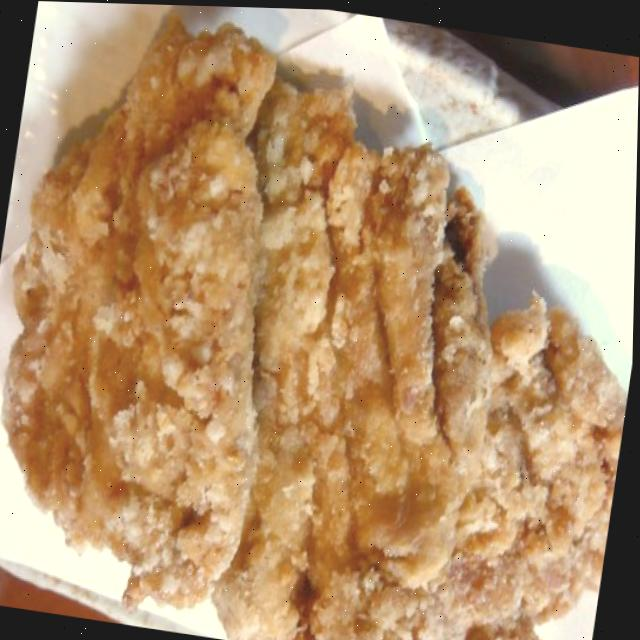鸡肉料理 含炸鸡: (3, 33, 639, 640)
